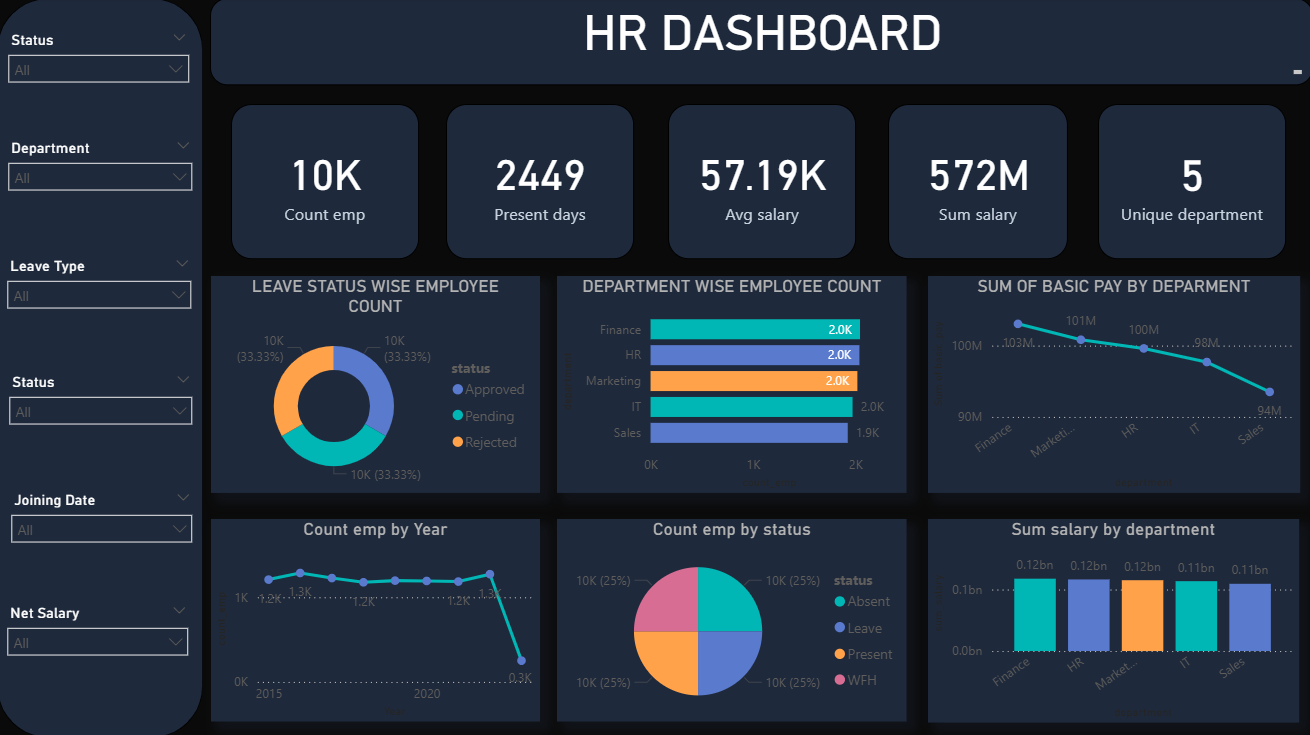

What the dashboard file says about the page in this screenshot:
{"tool":"powerbi","page":{"name":"Page 1","canvas":[1280,720],"ordinal":0},"visuals":[{"type":"card","fields":{"Values":["hr_database employees.avg_salary"]},"box":[652.6,103.1,182.9,150.8],"z":0},{"type":"card","fields":{"Values":["hr_database employees.count_emp"]},"box":[227.6,103.1,182.9,150.8],"z":1000},{"type":"card","fields":{"Values":["hr_database attendance.present_days"]},"box":[436.7,103.1,182.9,150.8],"z":2000},{"type":"card","fields":{"Values":["hr_database employees.sum_salary"]},"box":[866.6,103.1,175.1,150.8],"z":3000},{"type":"textbox","title":"HR DASHBOARD","box":[207.2,0,1072.8,84.6],"z":4000},{"type":"shape","box":[0,0,200.4,719.8],"z":5000},{"type":"slicer","fields":{"Values":["hr_database attendance.status"]},"box":[1,27.2,195.5,90.5],"z":6000},{"type":"slicer","fields":{"Values":["hr_database employees.department"]},"box":[1,132.3,199.4,92.4],"z":7000},{"type":"slicer","fields":{"Values":["hr_database leave_requests.leave_type"]},"box":[0,247.1,199.4,103.1],"z":8000},{"type":"slicer","fields":{"Values":["hr_database leave_requests.status"]},"box":[1.9,359.9,198.4,105],"z":9000},{"type":"slicer","fields":{"Values":["hr_database employees.join_date.Variation.Date Hierarchy.Year"]},"box":[3.9,474.7,196.5,109.9],"z":10000},{"type":"slicer","fields":{"Values":["hr_database payroll.Net_Salary"]},"box":[0,584.6,196.5,94.3],"z":11000},{"type":"card","fields":{"Values":["hr_database employees.unique_department"]},"box":[1070.9,103.1,182.9,150.8],"z":12000},{"type":"donutChart","title":"LEAVE STATUS WISE EMPLOYEE COUNT","fields":{"Category":["hr_database leave_requests.status"],"Y":["hr_database employees.count_emp"]},"box":[208.1,270.4,320,211.1],"z":13000},{"type":"pieChart","title":"Count emp by status","fields":{"Category":["hr_database attendance.status"],"Y":["hr_database employees.count_emp"]},"box":[544.7,506.7,340.4,197.4],"z":14000},{"type":"lineChart","title":"Count emp by Year","fields":{"Category":["hr_database employees.join_date.Variation.Date Hierarchy.Year"],"Y":["hr_database employees.count_emp"]},"box":[208.1,506.7,320,197.4],"z":15000},{"type":"barChart","title":"DEPARTMENT WISE EMPLOYEE COUNT","fields":{"Y":["hr_database employees.count_emp"],"Category":["hr_database employees.department"]},"box":[544.7,270.4,340.4,211.1],"z":16000},{"type":"lineChart","title":"SUM OF BASIC PAY BY DEPARMENT","fields":{"Category":["hr_database employees.department"],"Y":["Sum(hr_database payroll.basic_pay)"]},"box":[905.5,270.4,361.8,211.1],"z":17000},{"type":"clusteredColumnChart","title":"Sum salary by department","fields":{"Category":["hr_database employees.department"],"Y":["hr_database employees.sum_salary"]},"box":[905.5,506.7,360.9,198.4],"z":18000}]}

Visuals, with their boxes in screenshot pixels (x1, y1, x2, y2), scaled from the page's 1280x720 canvas onto the 1310x735 screenshot:
card - hr_database employees.avg_salary: <region>668, 105, 855, 259</region>
card - hr_database employees.count_emp: <region>233, 105, 420, 259</region>
card - hr_database attendance.present_days: <region>447, 105, 634, 259</region>
card - hr_database employees.sum_salary: <region>887, 105, 1066, 259</region>
"HR DASHBOARD" textbox: <region>212, 0, 1309, 86</region>
shape: <region>0, 0, 205, 734</region>
slicer - hr_database attendance.status: <region>1, 28, 201, 120</region>
slicer - hr_database employees.department: <region>1, 135, 205, 229</region>
slicer - hr_database leave_requests.leave_type: <region>0, 252, 204, 357</region>
slicer - hr_database leave_requests.status: <region>2, 367, 205, 475</region>
slicer - hr_database employees.join_date.Variation.Date Hierarchy.Year: <region>4, 485, 205, 597</region>
slicer - hr_database payroll.Net_Salary: <region>0, 597, 201, 693</region>
card - hr_database employees.unique_department: <region>1096, 105, 1283, 259</region>
"LEAVE STATUS WISE EMPLOYEE COUNT" donutChart: <region>213, 276, 540, 492</region>
"Count emp by status" pieChart: <region>557, 517, 906, 719</region>
"Count emp by Year" lineChart: <region>213, 517, 540, 719</region>
"DEPARTMENT WISE EMPLOYEE COUNT" barChart: <region>557, 276, 906, 492</region>
"SUM OF BASIC PAY BY DEPARMENT" lineChart: <region>927, 276, 1297, 492</region>
"Sum salary by department" clusteredColumnChart: <region>927, 517, 1296, 720</region>
